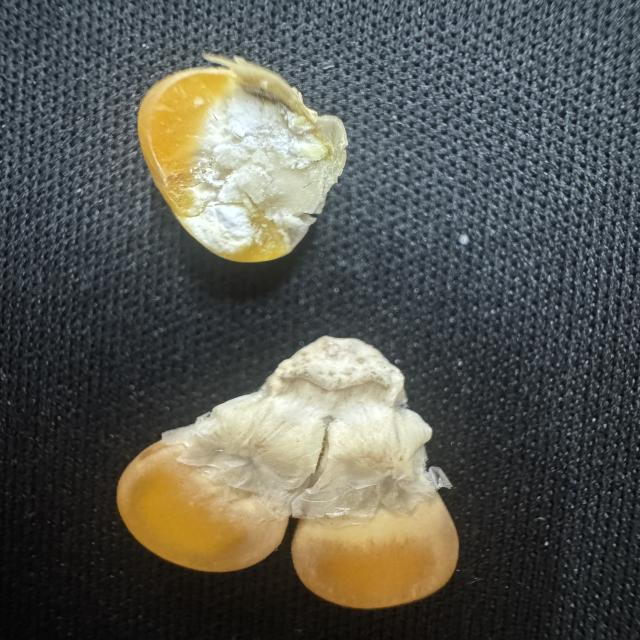Bad-Seed: (109, 326, 466, 615), (128, 50, 363, 274)
